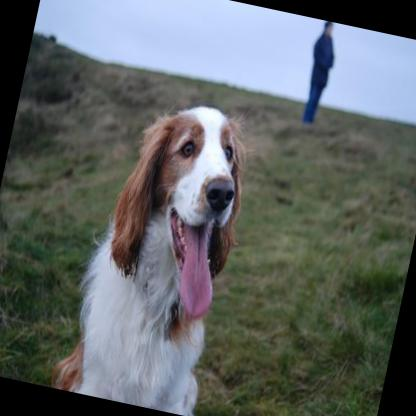Welsh_springer_spaniel: (48, 82, 262, 416)
